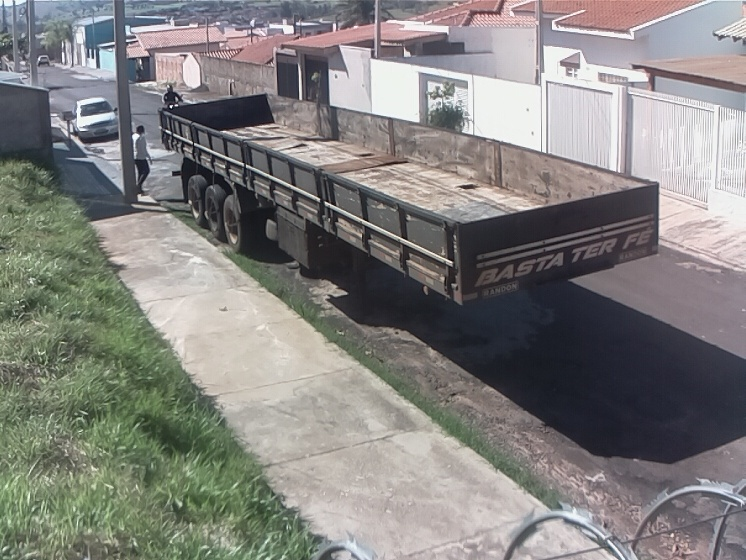person: (131, 123, 157, 196), (160, 84, 185, 107)
